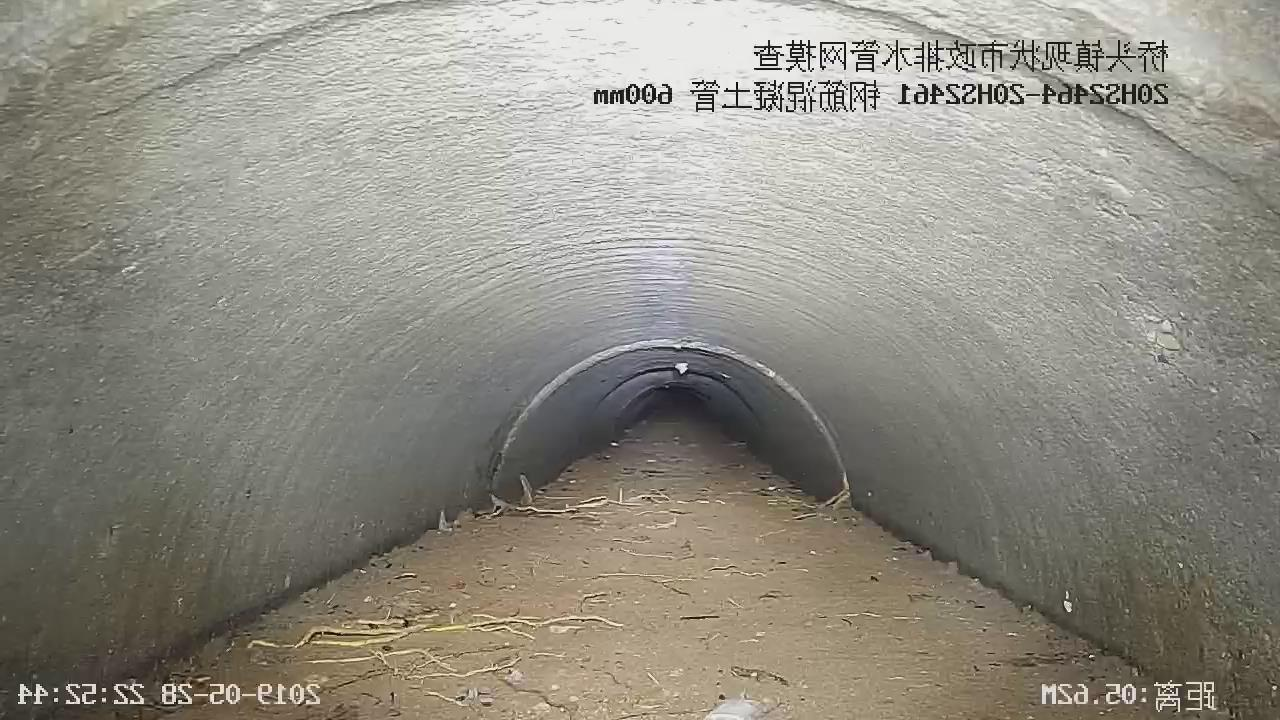CJ: (53, 406, 1157, 719)
CKTJ: (477, 332, 859, 519)
